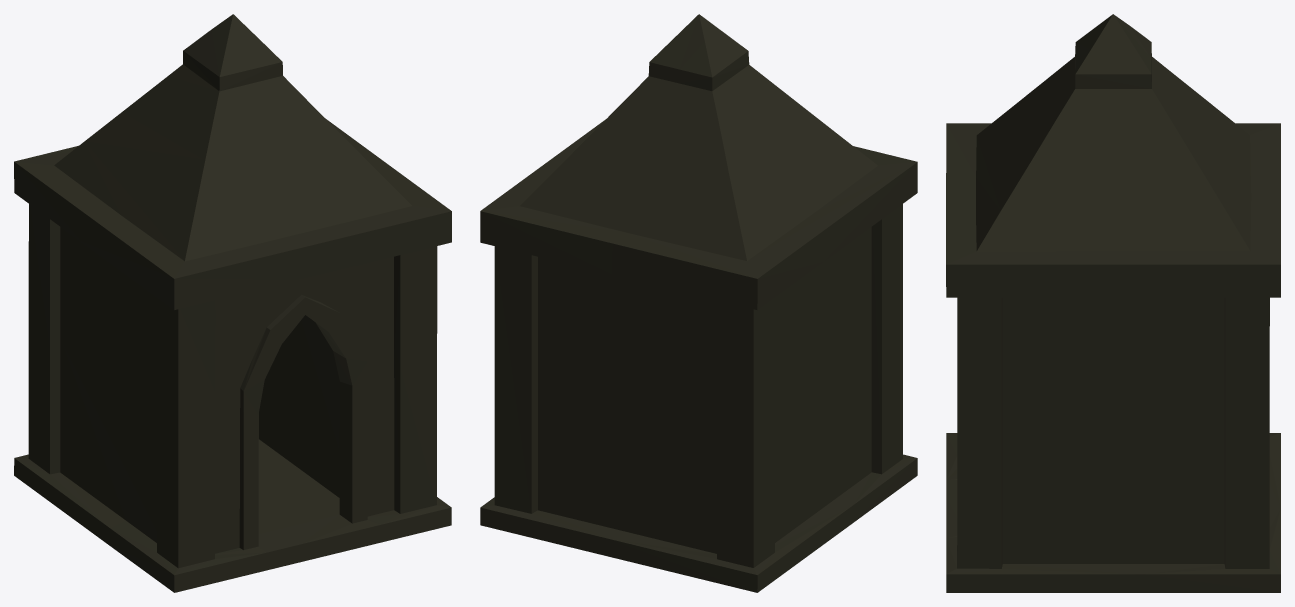
File: EA_Grave_Tomb_01a.fbx
3 renders of one model, left to right at view 1: azimuth 30°, elevation 25°; view 2: azimuth 150°, elevation 25°; view 3: azimuth 270°, elevation 25°, orthographic. The views are drawn at different scales.
Visible parts, largest first — view 1: EA_Grave_Tomb_01a_LOD0; view 2: EA_Grave_Tomb_01a_LOD0; view 3: EA_Grave_Tomb_01a_LOD0.
Part boxes in pixels (x1=…): EA_Grave_Tomb_01a_LOD0: x1=14, y1=14, x2=451, y2=592; EA_Grave_Tomb_01a_LOD0: x1=480, y1=14, x2=917, y2=592; EA_Grave_Tomb_01a_LOD0: x1=946, y1=14, x2=1280, y2=592.
Size of what is drawn, in the model's own units: 3.63 by 6.08 by 3.63.
